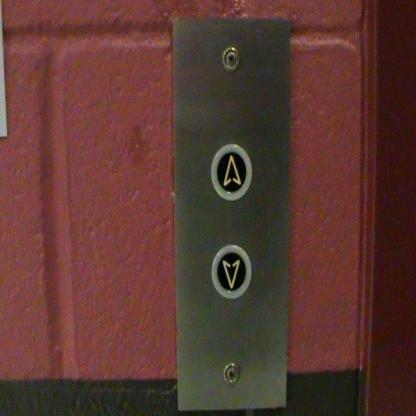down: (209, 242, 254, 301)
up: (209, 140, 253, 202)
